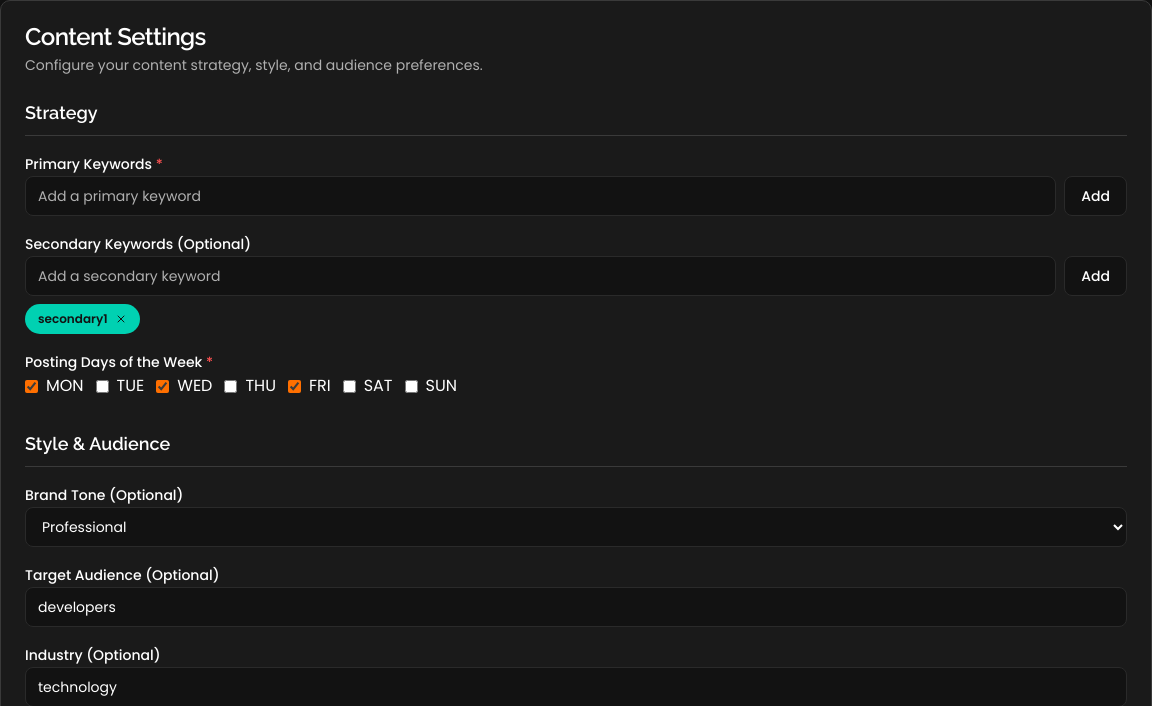
Test: SettingsForm › allows adding new keyword
Type "newkeyword" into the field with placeholder "Add a primary keyword".
click(541, 196); type("newkeyword")  # box [25,176,1056,216]
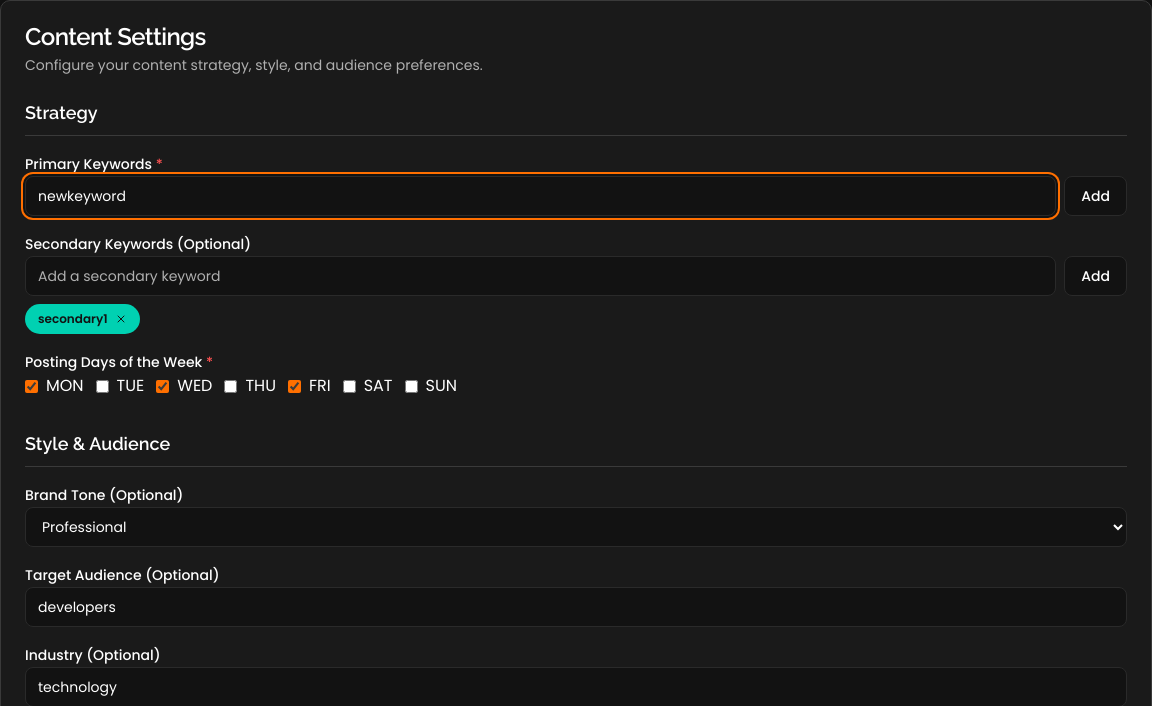
Click the 1st button "Add".
click(1096, 196)  # box [1064,176,1127,216]
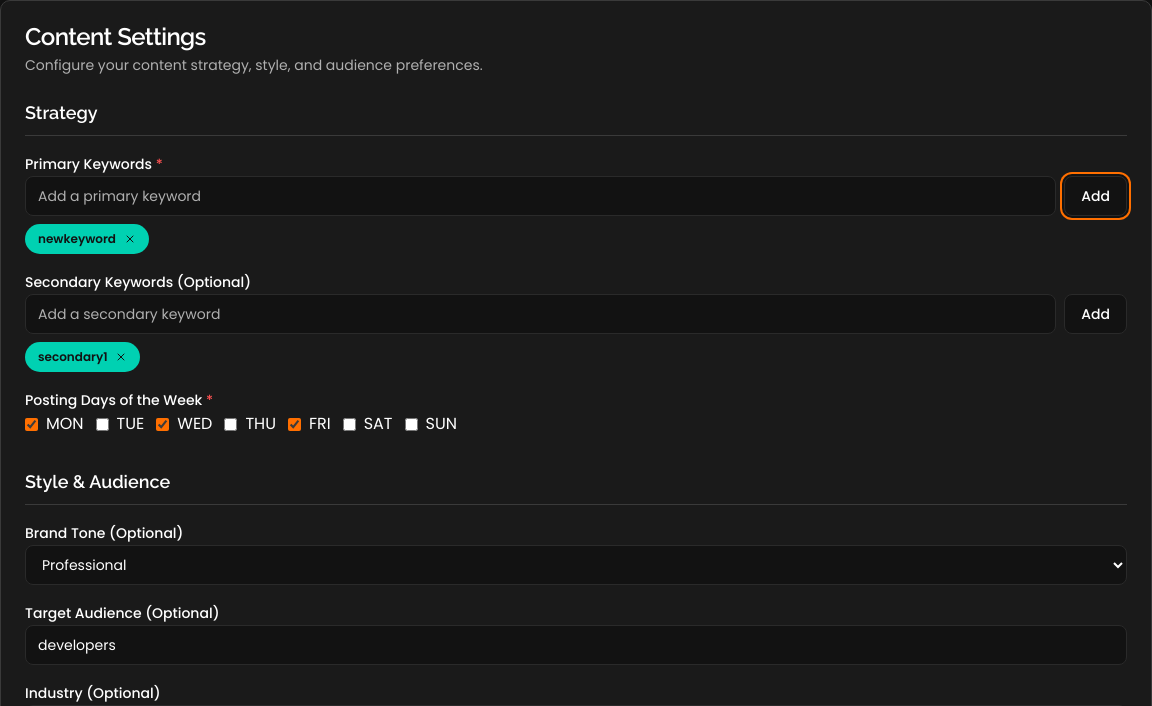
Now the text "newkeyword" is shown, box [25,224,149,254]
